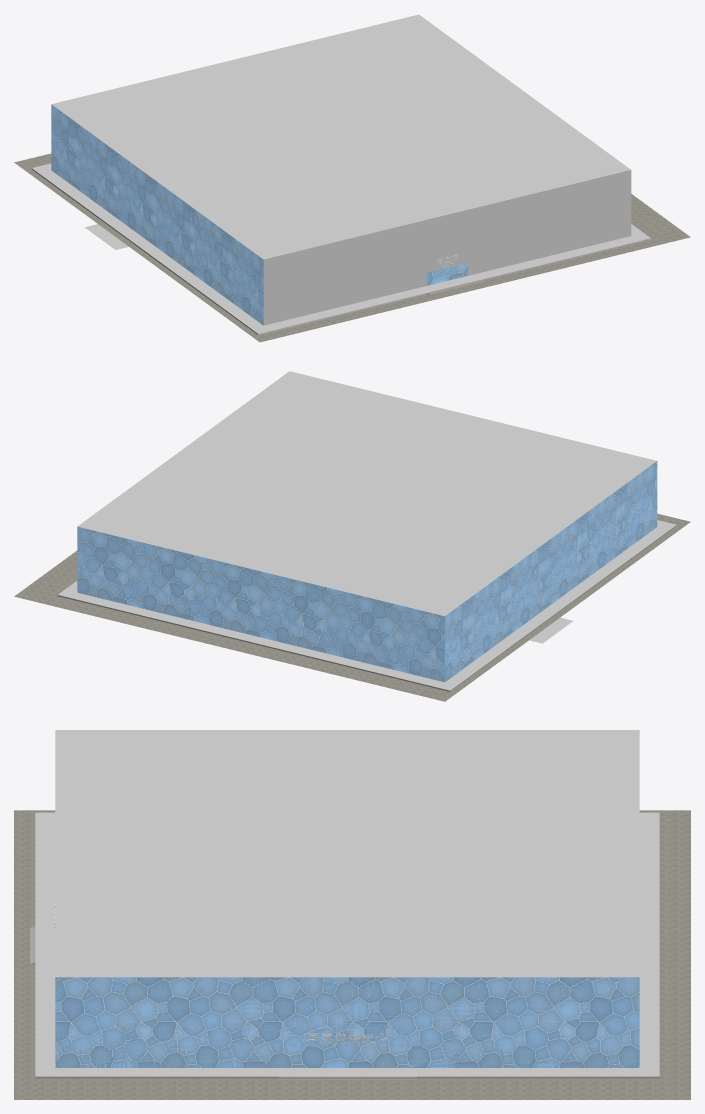
Rendered from watercube.glb.
The picture shows the model from 3 angles, top to bottom: view 1: azimuth 30°, elevation 25°; view 2: azimuth 150°, elevation 25°; view 3: azimuth 270°, elevation 25°; orthographic projection. The views are drawn at different scales.
Parts seen in each view (by area): view 1: COL_core, Massing, COL_south_w, COL_south_e, WaterCube, COL_plinth, COL_south_top, COL_east_s, COL_east_n; view 2: COL_core, Massing, WaterCube, COL_plinth, COL_south_w, COL_south_e, COL_east_n, COL_east_s; view 3: COL_core, Massing, WaterCube, COL_plinth, COL_south_w, COL_east_n, COL_east_s, COL_south_e, COL_east_top.
Part boxes in pixels (x1,y1,x2,y2): COL_core: (51,17,616,255); Massing: (14,104,690,342); COL_south_w: (258,216,426,325); COL_south_e: (463,168,621,275); WaterCube: (38,106,483,332); COL_plinth: (32,163,650,334); COL_south_top: (422,205,468,272); COL_east_s: (538,108,631,237); COL_east_n: (410,14,502,78); COL_core: (87,377,651,616); Massing: (14,461,690,701); WaterCube: (58,462,676,691); COL_plinth: (58,520,676,690); COL_south_w: (489,421,656,464); COL_south_e: (294,373,451,414); COL_east_n: (77,465,170,528); COL_east_s: (205,371,298,435); COL_core: (70,730,639,970); Massing: (14,810,690,1099); WaterCube: (30,926,639,1080); COL_plinth: (35,812,659,1076); COL_south_w: (55,730,69,839); COL_east_n: (407,971,639,977); COL_east_s: (55,971,287,977); COL_south_e: (55,867,69,970); COL_east_top: (288,971,406,977).
Bounding box in the file's own units: 214 × 31 × 205.
Materials: 6 (3 with a texture image).
